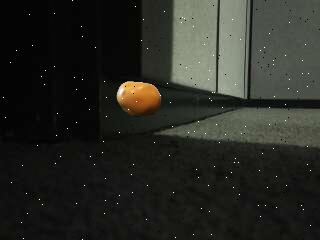Potato: (116, 81, 162, 117)
